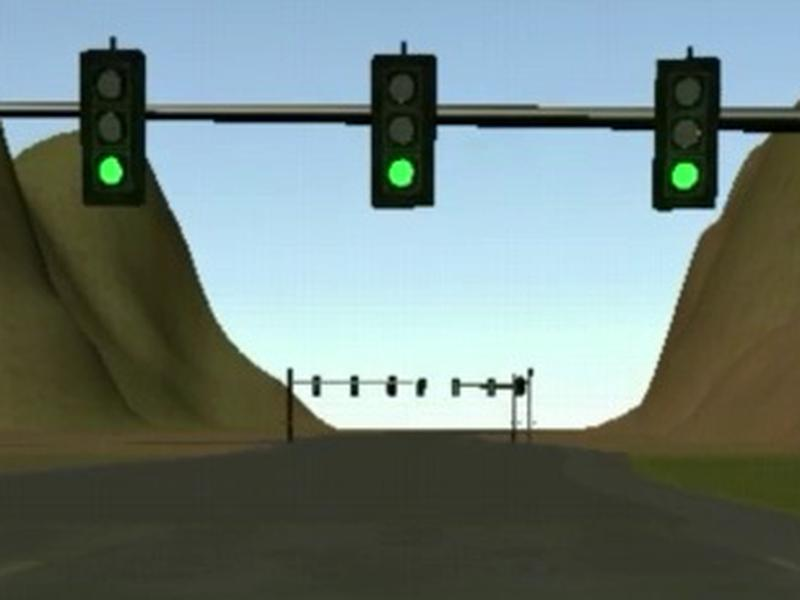Green: (653, 56, 723, 211), (76, 49, 145, 206), (372, 54, 438, 208)
